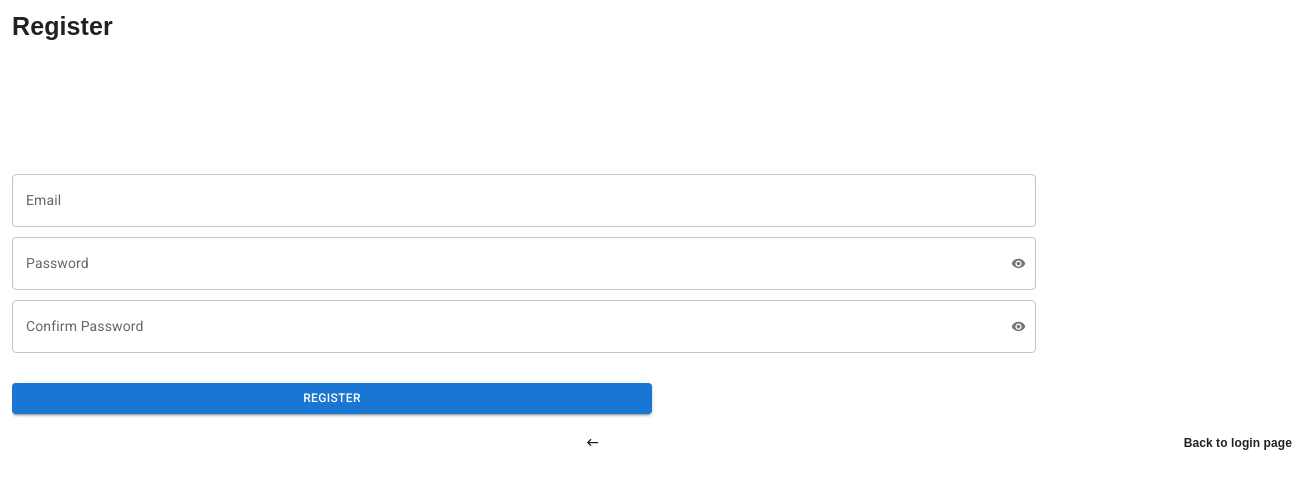
Test case: testing Register component › handle error › if error message show up with empty email and password inputs
Click the button "Register" at [332, 398], box [12,383,652,414]
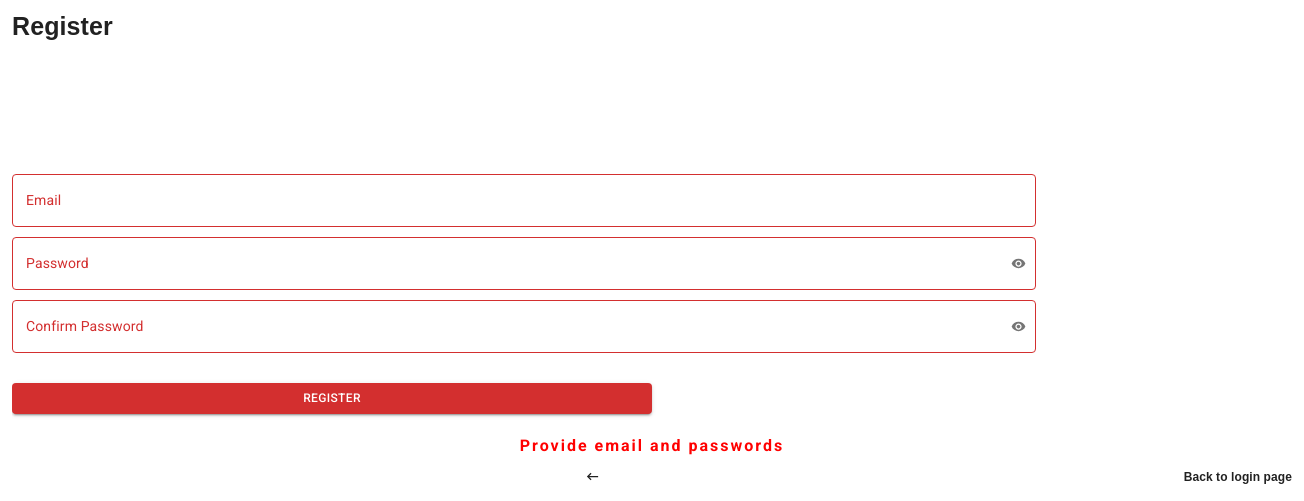
expect the text "Provide email and passwords" is shown: met, box [520,436,784,455]
